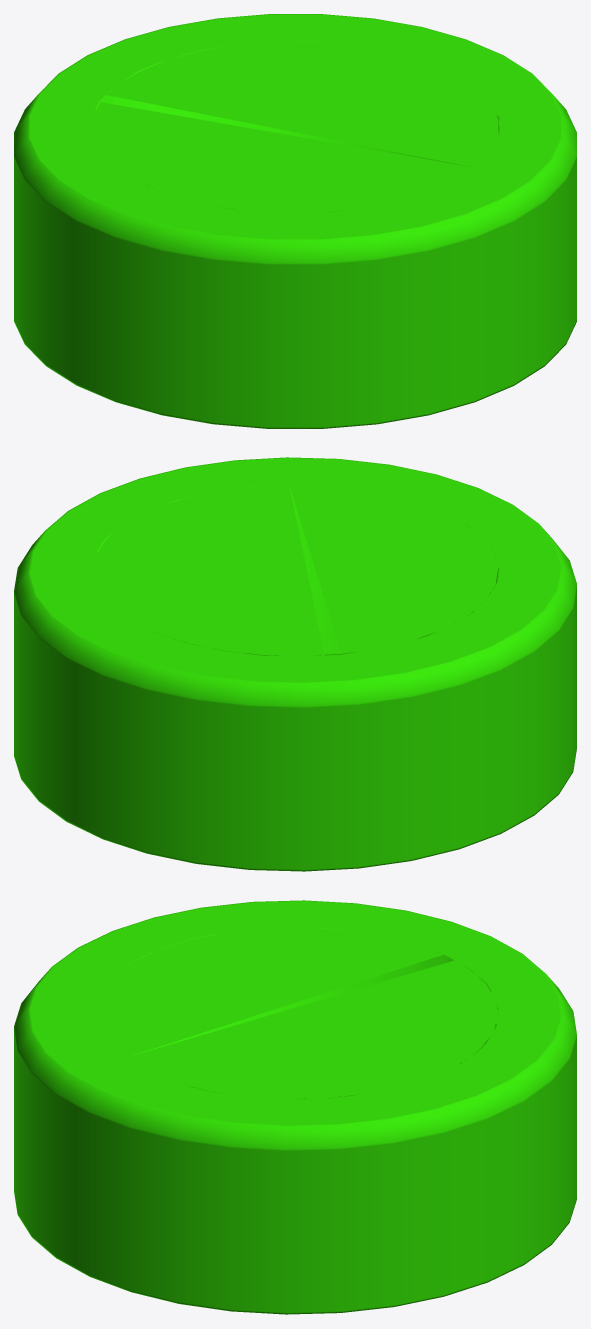
Rendered from Pipe-Top.fbx.
3 views of the same model, one above another, from view 1: azimuth 30°, elevation 25°; view 2: azimuth 150°, elevation 25°; view 3: azimuth 270°, elevation 25° (orthographic).
Visible parts, largest first — view 1: Circle.002; view 2: Circle.002; view 3: Circle.002.
Part boxes in pixels (x1,y1,x2,y2): Circle.002: (14, 14, 576, 428); Circle.002: (14, 457, 576, 871); Circle.002: (14, 900, 576, 1314).
Bounding box in the file's own units: 2.86 × 1.05 × 2.86.
